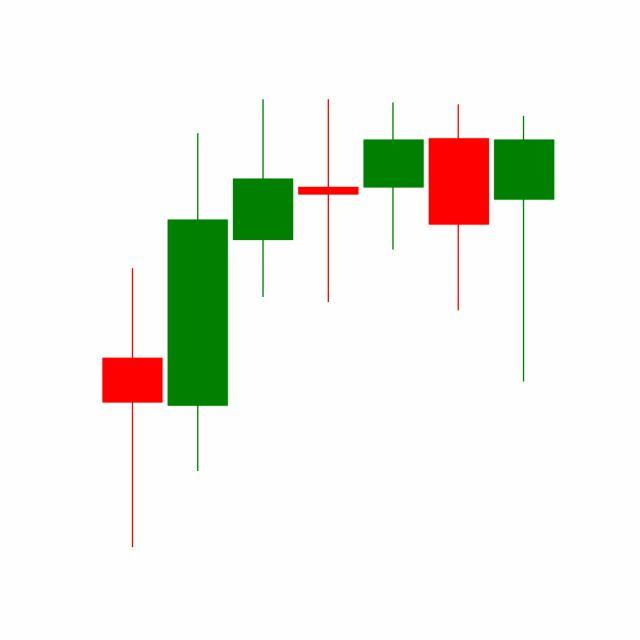Hikkake Pattern: (165, 100, 492, 477)
